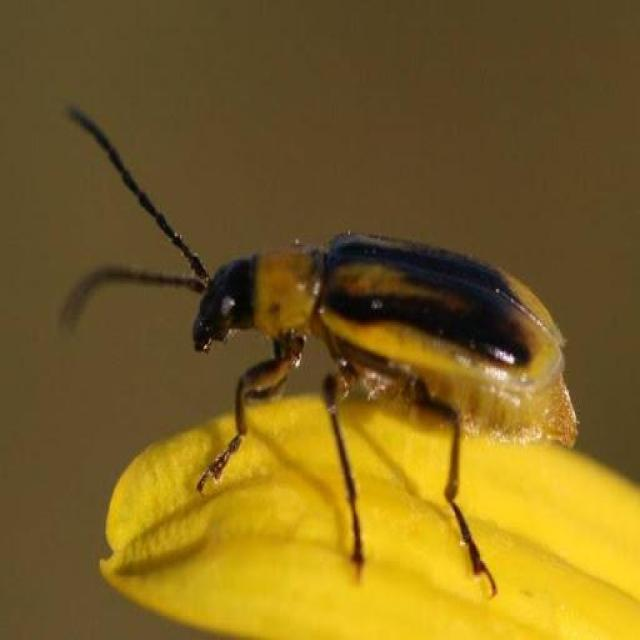trips: (59, 96, 622, 578)
